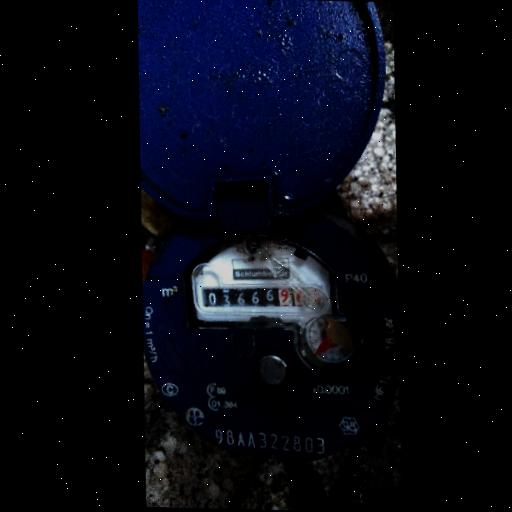0: (204, 289, 218, 307)
3: (218, 287, 233, 306)
6: (262, 287, 280, 308), (247, 287, 263, 307), (291, 287, 307, 307), (234, 288, 248, 307)
9: (277, 286, 293, 307)
border_water_meter_number: (193, 281, 327, 316)
